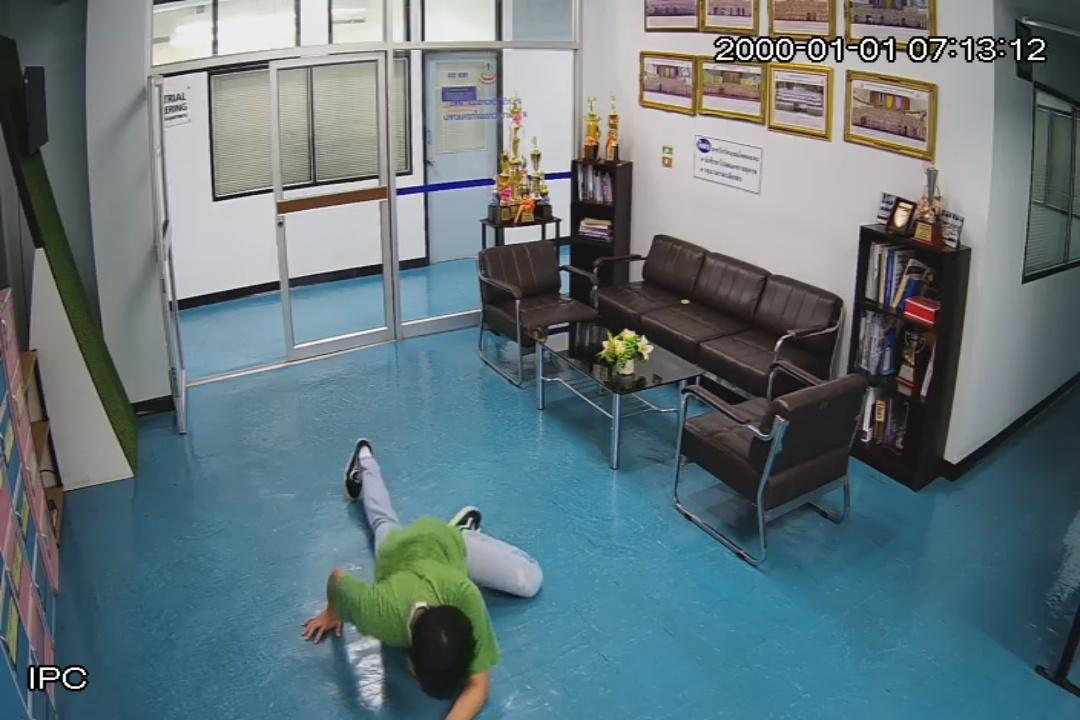fall: (302, 432, 546, 720)
